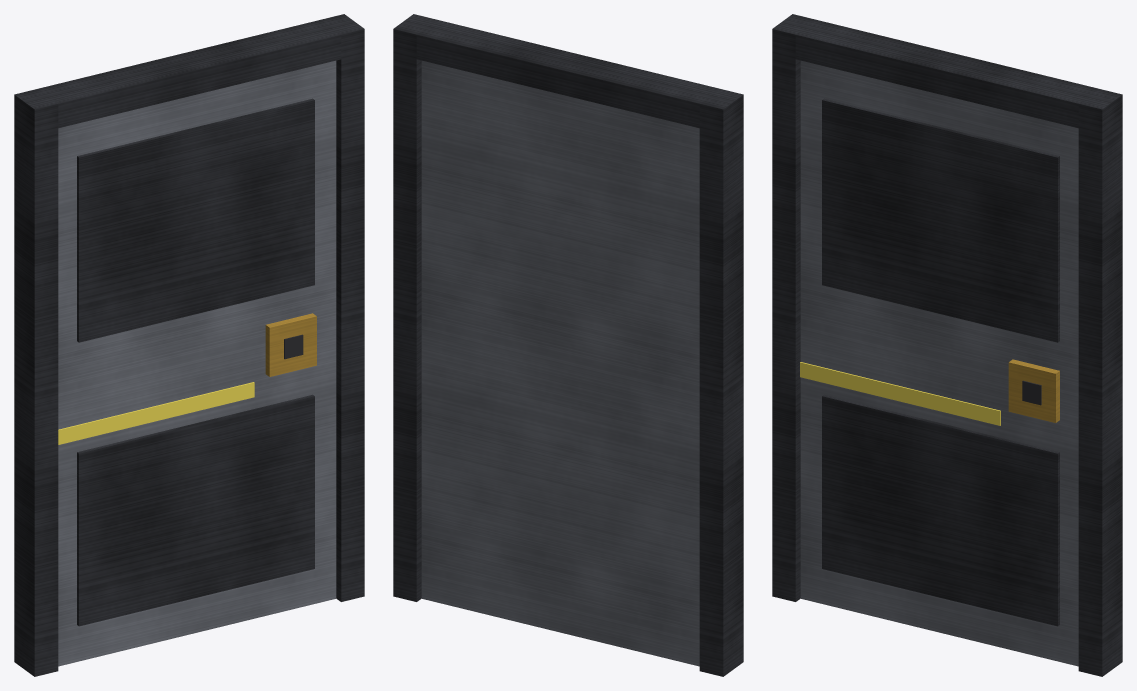
File: ExitDoor.fbx
The picture shows the model from 3 angles, left to right: view 1: azimuth 30°, elevation 25°; view 2: azimuth 150°, elevation 25°; view 3: azimuth 330°, elevation 25°; orthographic projection.
Visible parts, largest first — view 1: ExitDoor; view 2: ExitDoor; view 3: ExitDoor.
Part boxes in pixels (left/top/right/bottom): ExitDoor: left=14, top=14, right=364, bottom=676; ExitDoor: left=393, top=14, right=743, bottom=676; ExitDoor: left=772, top=14, right=1122, bottom=676.
Bounding box in the file's own units: 1.4 × 2.3 × 0.15.
Materials: 5 (3 with a texture image).
